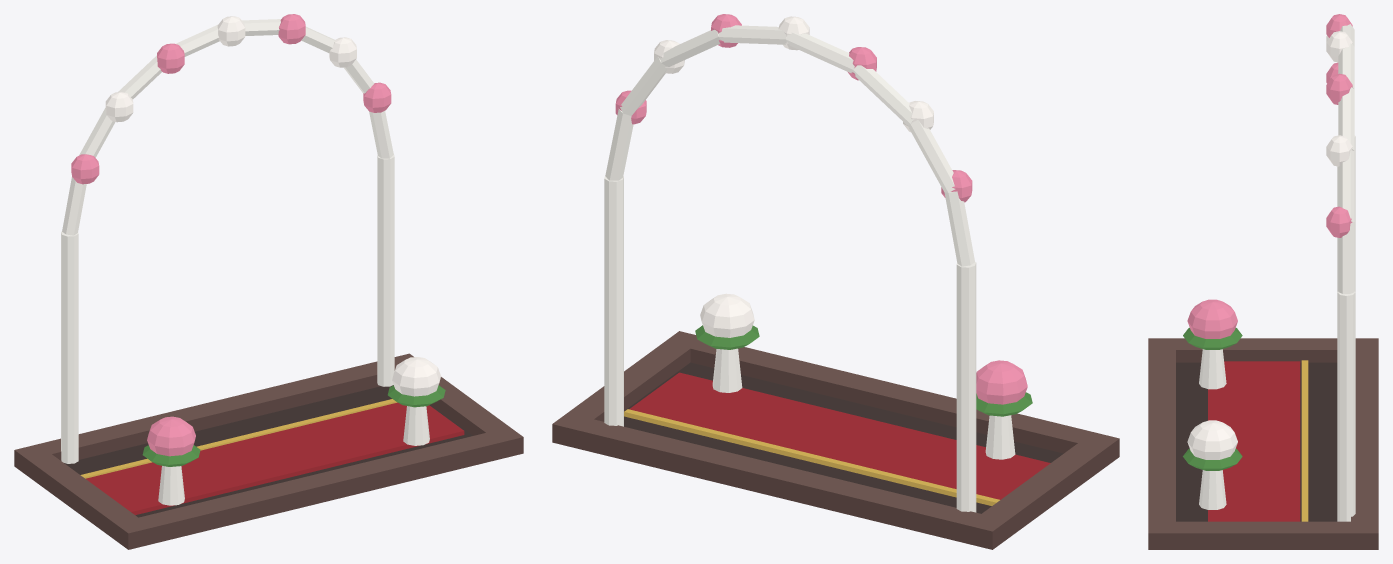
Rendered from Building_MarriageSpot.glb.
The picture shows the model from 3 angles, left to right: view 1: azimuth 30°, elevation 25°; view 2: azimuth 150°, elevation 25°; view 3: azimuth 270°, elevation 25°; orthographic projection. The views are drawn at different scales.
Parts seen in each view (by area): view 1: MarriageSpot; view 2: MarriageSpot; view 3: MarriageSpot.
Boxes of the visible parts, left/top/right/bottom form: MarriageSpot: left=14, top=14, right=523, bottom=549; MarriageSpot: left=552, top=14, right=1119, bottom=549; MarriageSpot: left=1148, top=14, right=1378, bottom=549.
Bounding box in the file's own units: 2 × 2.01 × 1.
Materials: 1 (1 with a texture image).
